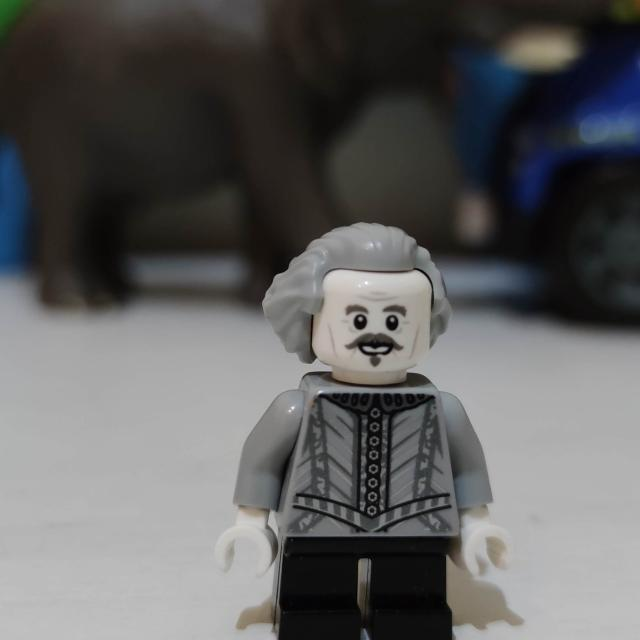lego: (217, 221, 512, 640)
